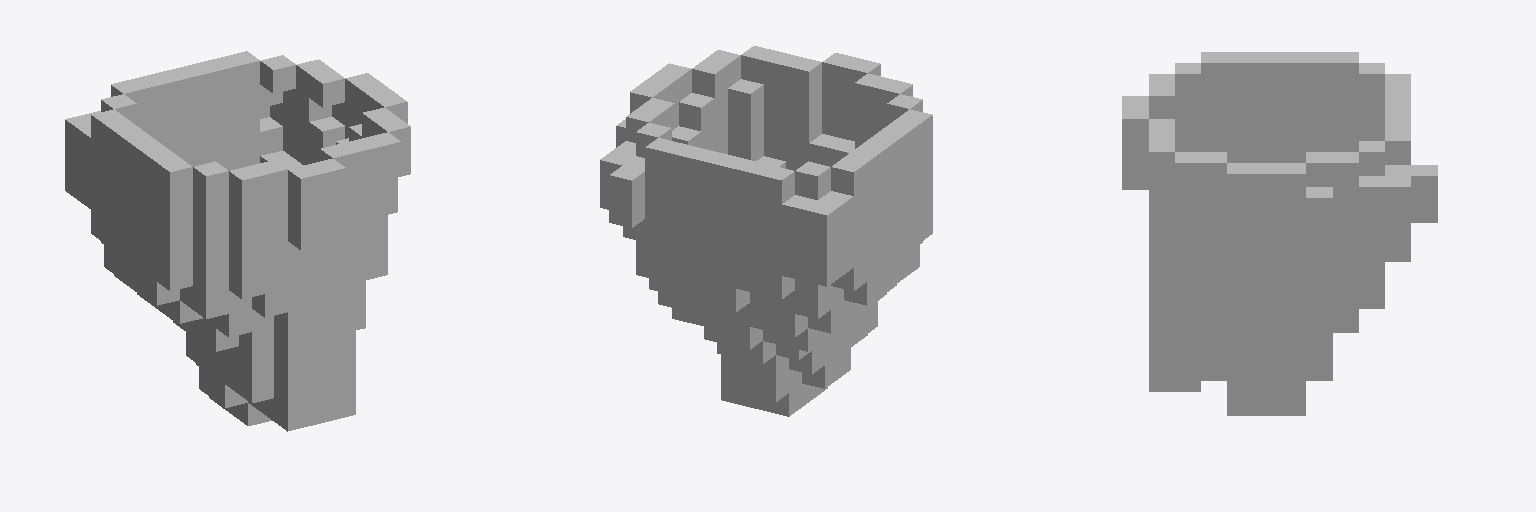
Rendered from blackbearhead.obj.
3 views of the same model, side by side, from view 1: azimuth 30°, elevation 25°; view 2: azimuth 150°, elevation 25°; view 3: azimuth 270°, elevation 25° (orthographic).
Visible parts, largest first — view 1: blackbear.002; view 2: blackbear.002; view 3: blackbear.002.
Part boxes in pixels (left/top/right/bottom): blackbear.002: left=65, top=51, right=410, bottom=431; blackbear.002: left=600, top=46, right=932, bottom=416; blackbear.002: left=1122, top=52, right=1437, bottom=415.
Bounding box in the file's own units: 11 × 12 × 12.